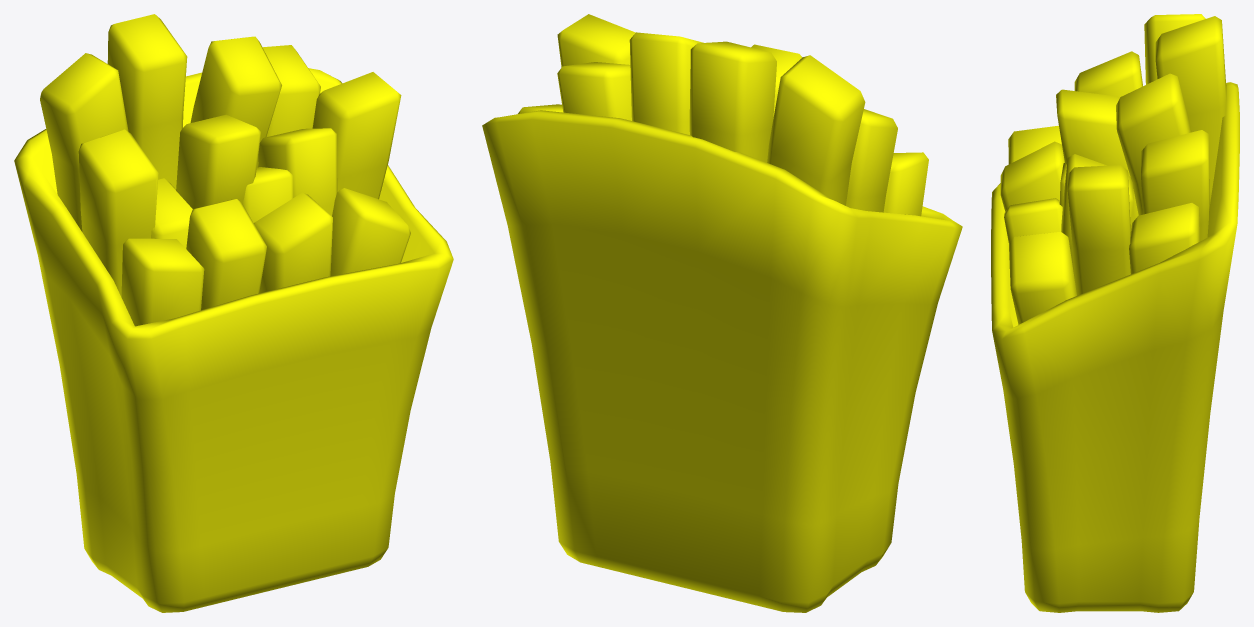
The picture shows the model from 3 angles, left to right: view 1: azimuth 30°, elevation 25°; view 2: azimuth 150°, elevation 25°; view 3: azimuth 270°, elevation 25°; orthographic projection. The views are drawn at different scales.
Visible parts, largest first — view 1: fries_001; view 2: fries_001; view 3: fries_001.
Part boxes in pixels (x1,y1,x2,y2): fries_001: (14,14,453,612); fries_001: (482,14,962,612); fries_001: (991,14,1239,612).
Size of the model in its own units: 0.1095 by 0.164 by 0.071.
1 material, 1 textured.
